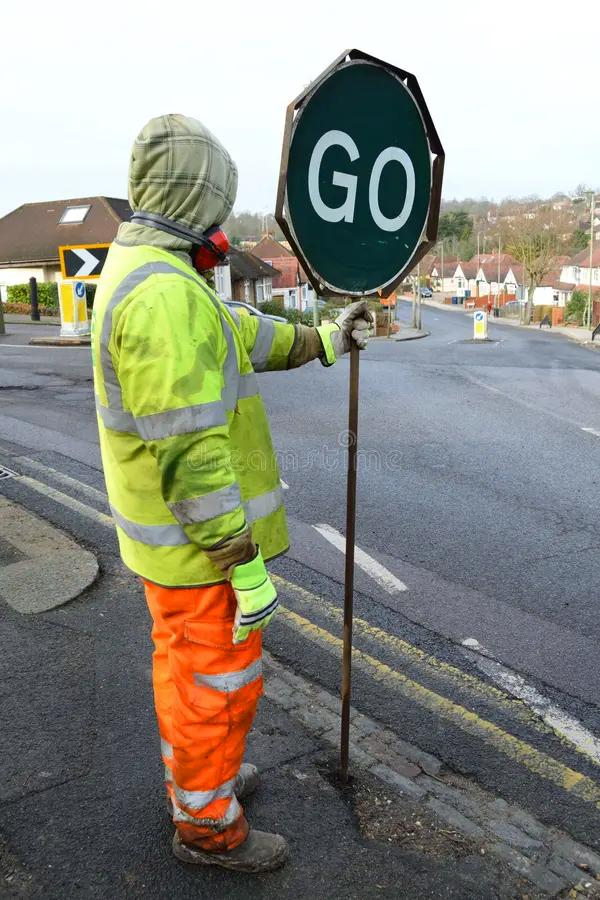Go: (283, 50, 437, 292)
